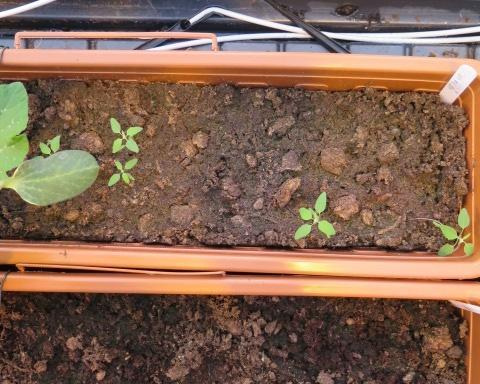weed: (288, 187, 337, 240), (429, 203, 474, 256), (106, 115, 143, 153), (105, 156, 140, 188)
